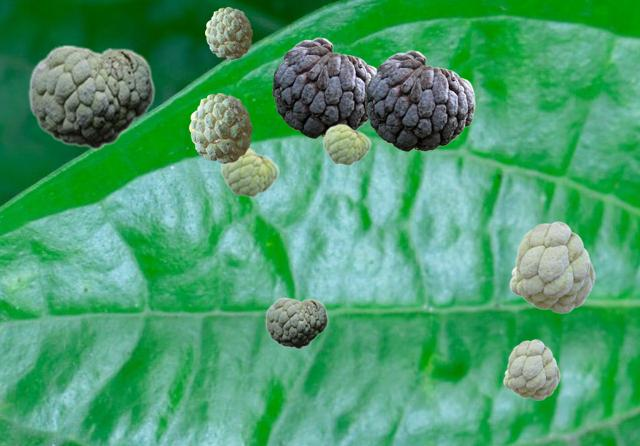atis: (28, 44, 154, 149), (365, 50, 474, 150), (272, 37, 376, 137), (509, 221, 594, 312), (189, 93, 251, 162), (503, 339, 559, 399), (265, 297, 327, 348), (220, 148, 278, 197), (205, 7, 251, 58), (322, 123, 370, 165)
